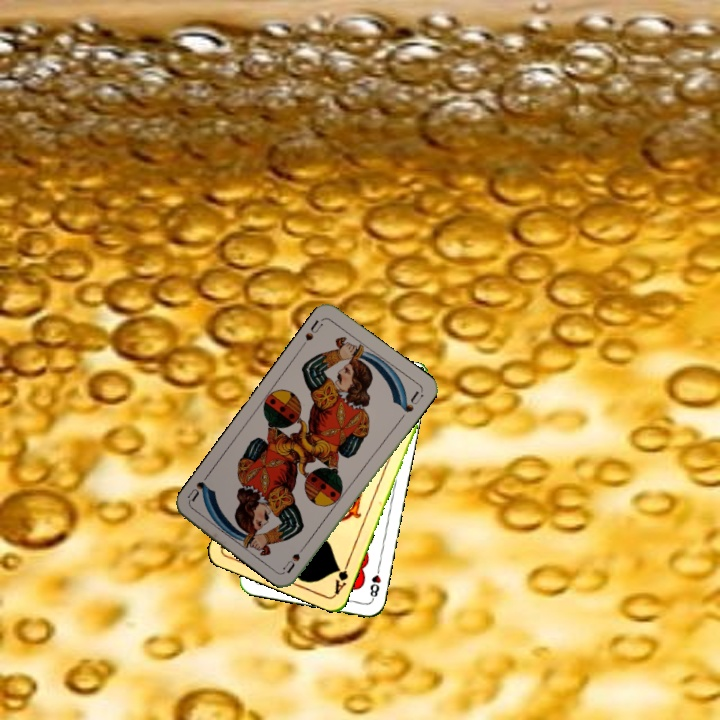GA: (331, 557, 352, 597)
H8: (366, 562, 383, 602)
SU: (279, 538, 311, 575), (301, 315, 326, 343)
